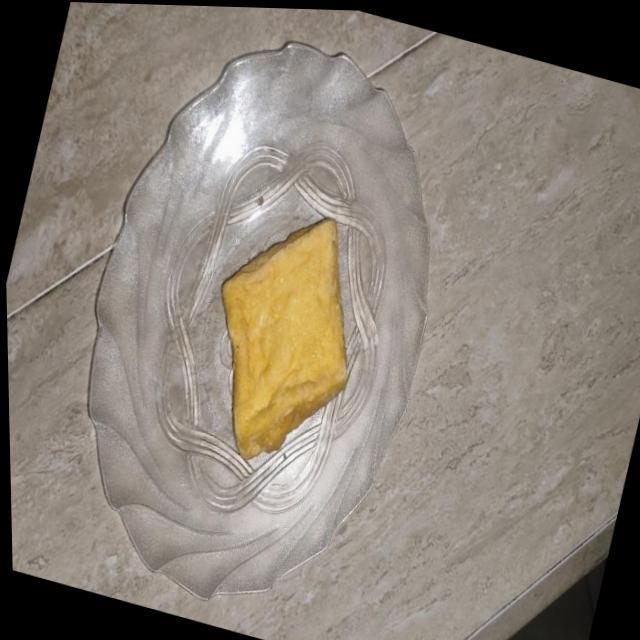tahu_goreng: (222, 218, 346, 459)
